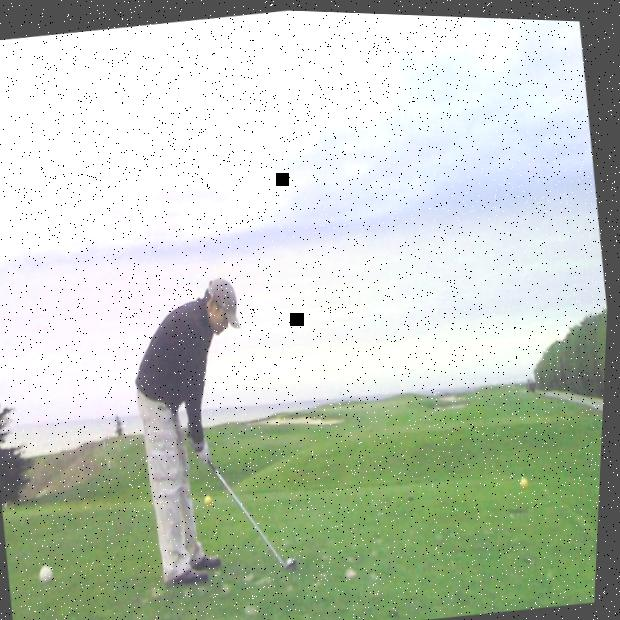ClubHead: (279, 547, 309, 577)
GolfBall: (39, 558, 62, 586), (521, 468, 539, 489), (202, 489, 223, 506)
